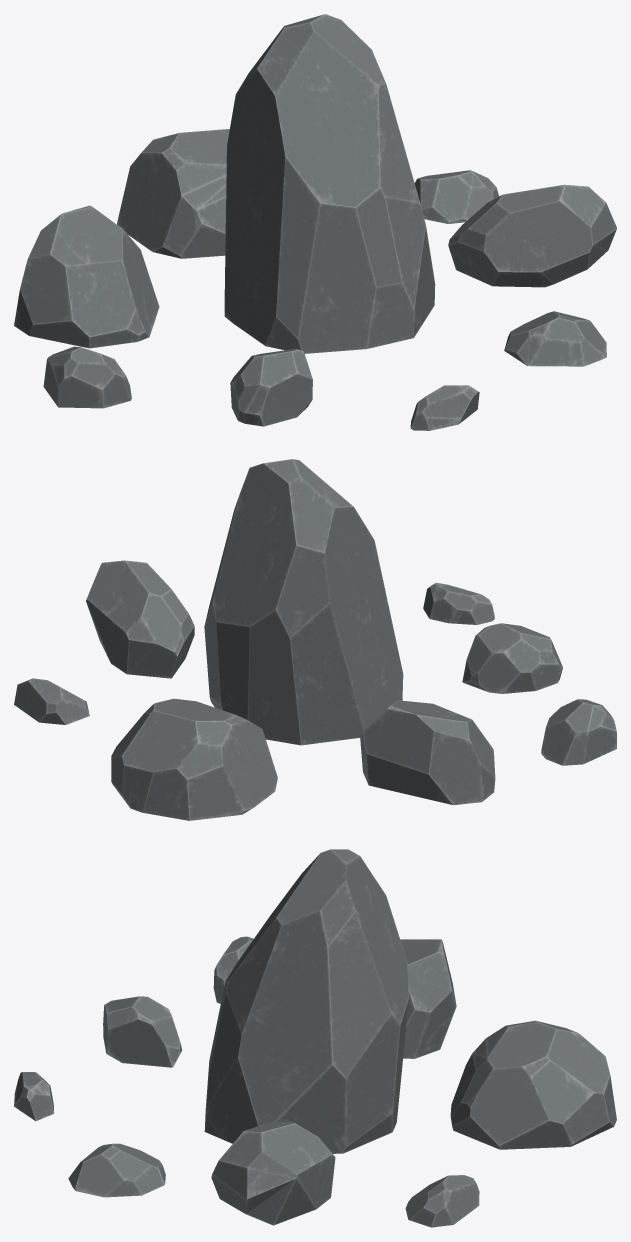
The model's file is Rock_01.fbx.
The picture shows the model from 3 angles, top to bottom: view 1: azimuth 30°, elevation 25°; view 2: azimuth 150°, elevation 25°; view 3: azimuth 270°, elevation 25°; orthographic projection. The views are drawn at different scales.
Parts seen in each view (by area): view 1: Cube.001; view 2: Cube.001; view 3: Cube.001.
Part boxes in pixels (left/top/right/bottom): Cube.001: left=14, top=14, right=616, bottom=430; Cube.001: left=14, top=459, right=616, bottom=820; Cube.001: left=14, top=849, right=616, bottom=1227.
Size of the model in its own units: 141 by 66.41 by 136.
Materials: 1 (1 with a texture image).
